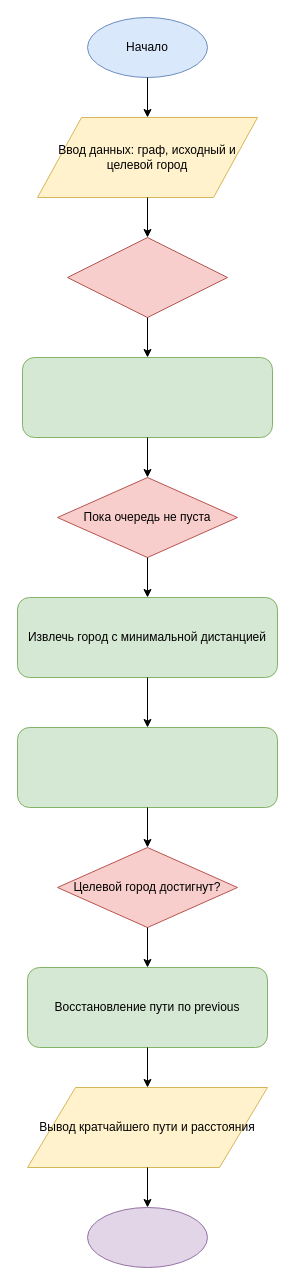
Image size: 295x1285. Some labels were removed from this diagram. Each missing label, with the centre of its shape:
"Для каждого соседа: обновить расстояние, если меньше" goes at (147,767).
"Инициализация: dist[source]=0, очередь=(source)" goes at (147,397).
"Конец" goes at (147,1237).
"Оба города существуют?" goes at (147,277).
